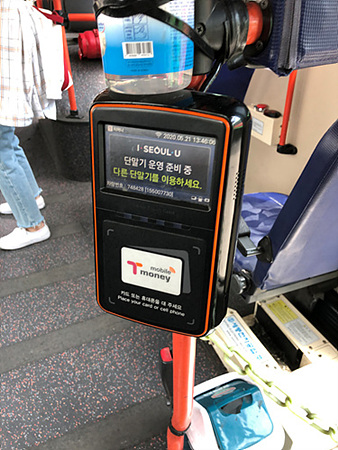terminal: (95, 91, 222, 330)
